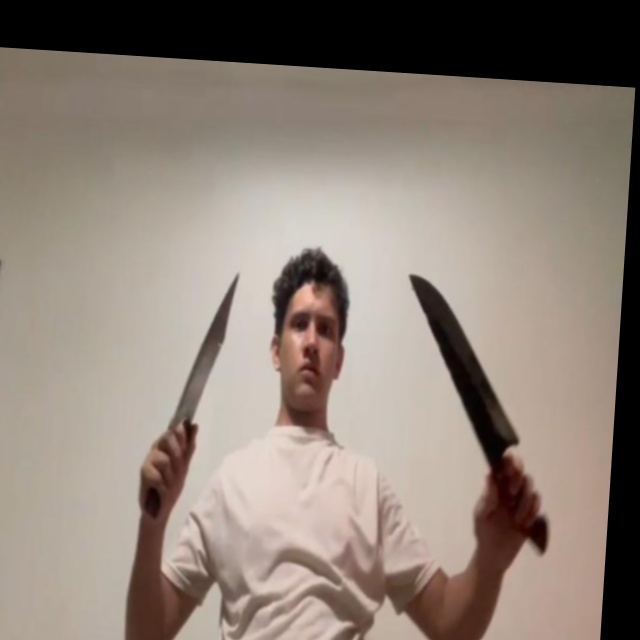Sharp-Object: (398, 272, 529, 445), (172, 271, 240, 435)
